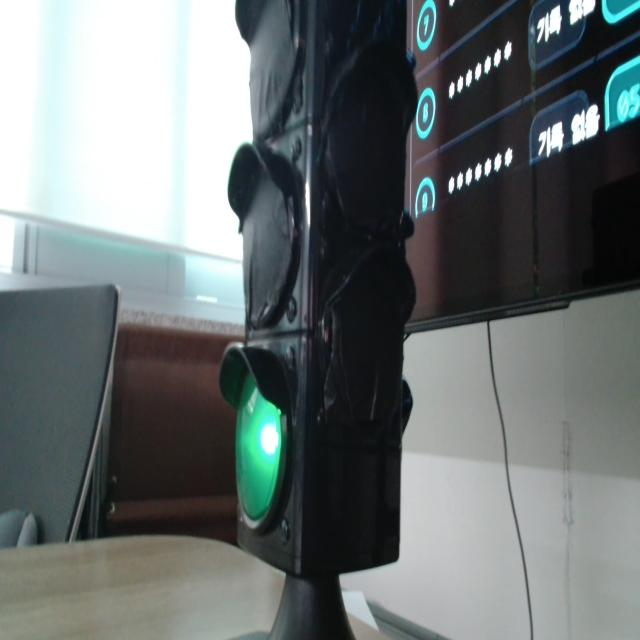green_light: (236, 375, 283, 521)
